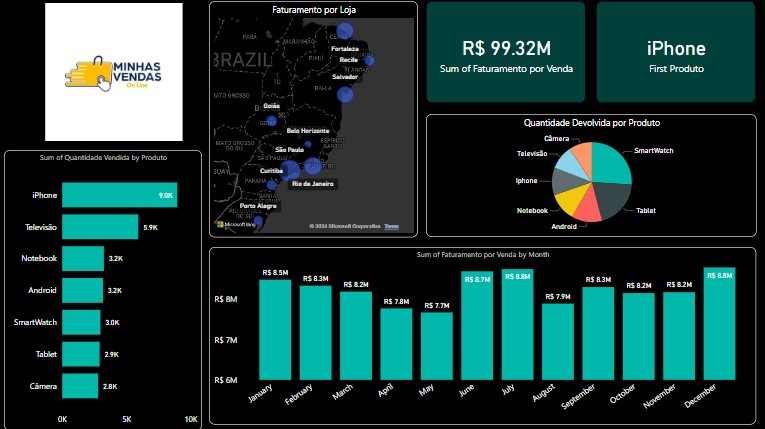

Layout of this report page (visuals, bound fields, positions):
{"tool":"powerbi","page":{"name":"Page 1","canvas":[1280,720],"ordinal":0},"visuals":[{"type":"image","box":[9.6,0,362.6,240],"z":0},{"type":"barChart","fields":{"Category":["Base Vendas.Produto"],"Y":["Sum(Base Vendas.Quantidade Vendida)"]},"box":[9.1,250.8,329.9,468.2],"z":1000},{"type":"card","fields":{"Values":["Sum(Base Vendas.Faturamento por Venda)"]},"box":[711.4,1.5,266,170.3],"z":2000},{"type":"card","fields":{"Values":["Min(Base Vendas.Produto)"]},"box":[995.7,1.5,266,170.3],"z":3000},{"type":"columnChart","fields":{"Y":["Sum(Base Vendas.Faturamento por Venda)"],"Category":["Base Vendas.Data.Variation.Date Hierarchy.Month"]},"box":[349.6,412,912.1,296.4],"z":4000},{"type":"pieChart","title":"Quantidade Devolvida por Produto","fields":{"Y":["Sum(Base Devoluções.Quantidade Devolvida)"],"Category":["Base Devoluções.Produto"]},"box":[711.2,190.1,550.9,205],"z":5000},{"type":"map","title":"Faturamento por Loja","fields":{"Category":["Base Vendas.Loja"],"Size":["Sum(Base Vendas.Faturamento por Venda)"]},"box":[349.6,1.5,348.1,393.7],"z":6000}]}

Visuals, with their boxes in screenshot pixels (x1, y1, x2, y2), scaled from the page's 1280x720 canvas onto the 765x429 screenshot:
image: region(6, 0, 222, 143)
barChart - Base Vendas.Produto x Sum(Base Vendas.Quantidade Vendida): region(5, 149, 203, 428)
card - Sum(Base Vendas.Faturamento por Venda): region(425, 1, 584, 102)
card - Min(Base Vendas.Produto): region(595, 1, 754, 102)
columnChart - Sum(Base Vendas.Faturamento por Venda) x Base Vendas.Data.Variation.Date Hierarchy.Month: region(209, 245, 754, 422)
"Quantidade Devolvida por Produto" pieChart: region(425, 113, 754, 235)
"Faturamento por Loja" map: region(209, 1, 417, 235)
